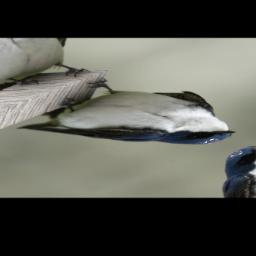Swallow: (0, 63, 256, 180)
